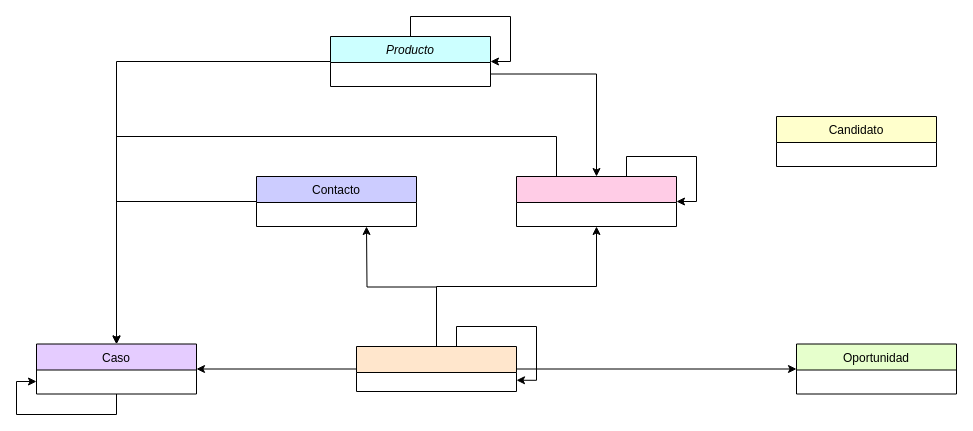
Some shapes in this 973 by 431 pixel diagram are drawn without their labels. Here are the shapes that lost their labels. From the top down, the box of each, then its label:
(516, 176, 676, 226): Activo
(356, 346, 516, 392): Cuenta
